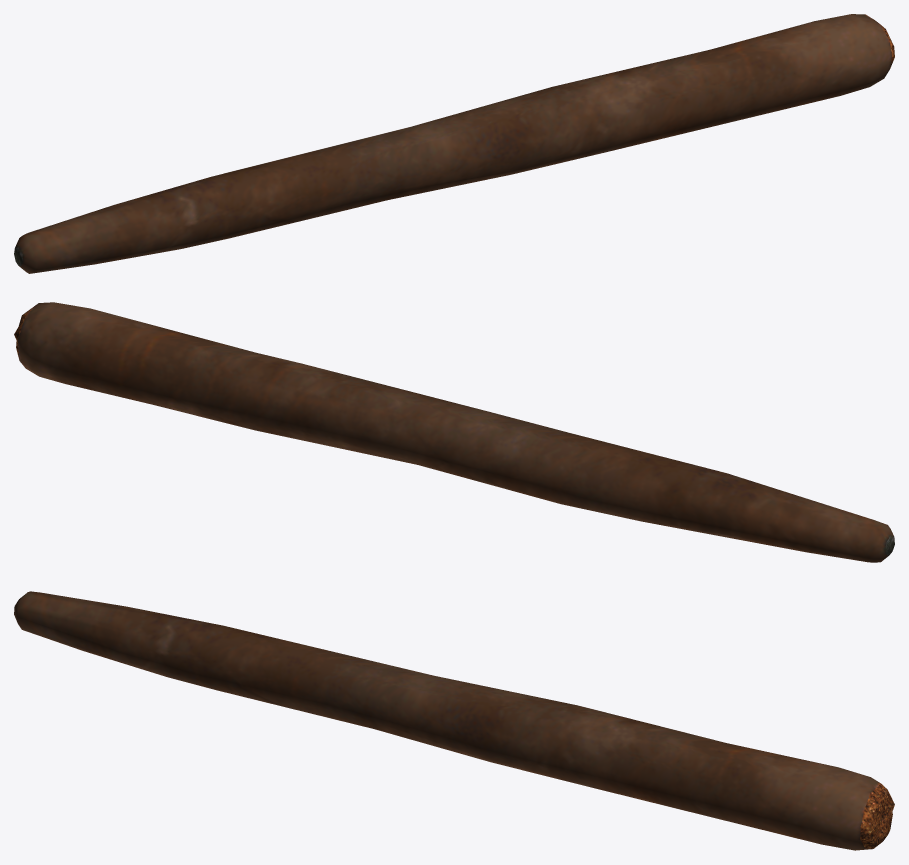
The model's file is Cigarillo.fbx.
The picture shows the model from 3 angles, top to bottom: view 1: azimuth 30°, elevation 25°; view 2: azimuth 150°, elevation 25°; view 3: azimuth 330°, elevation 25°; orthographic projection.
Parts seen in each view (by area): view 1: Cylinder; view 2: Cylinder; view 3: Cylinder.
Part boxes in pixels (<box>): Cylinder: <box>14,14,894,273</box>; Cylinder: <box>14,302,894,562</box>; Cylinder: <box>14,591,894,850</box>.
Bounding box in the file's own units: 0.1336 × 0.0106 × 0.0107.
